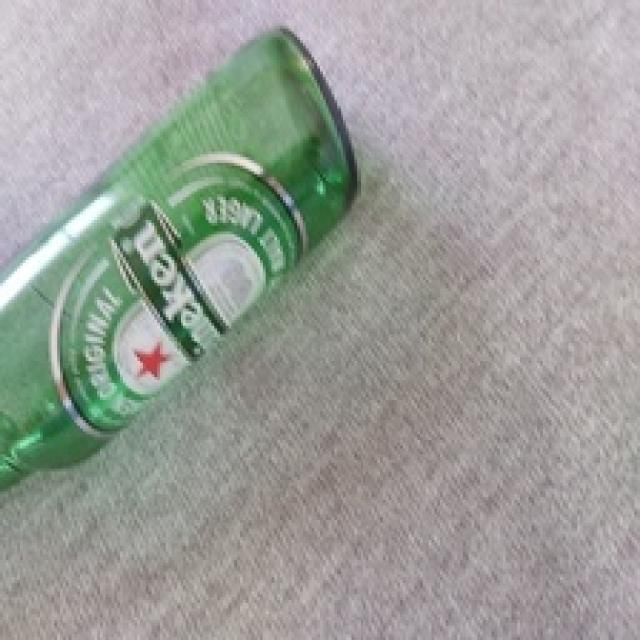Glass: (0, 26, 365, 494)
